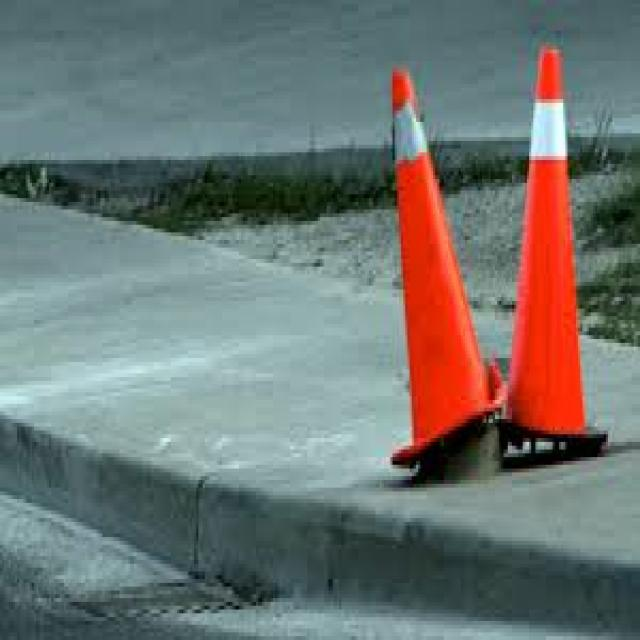cone: (498, 30, 618, 466), (388, 57, 480, 466)
